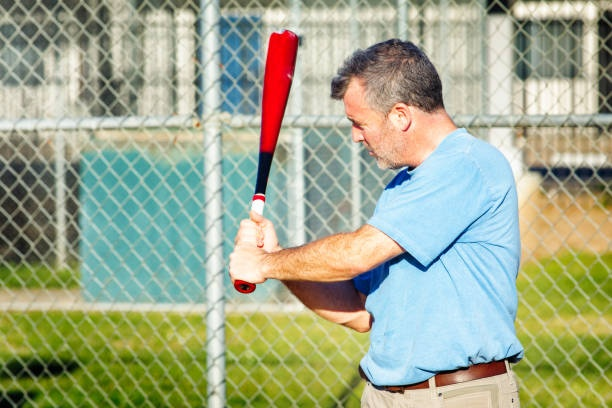bita: (227, 26, 303, 304)
